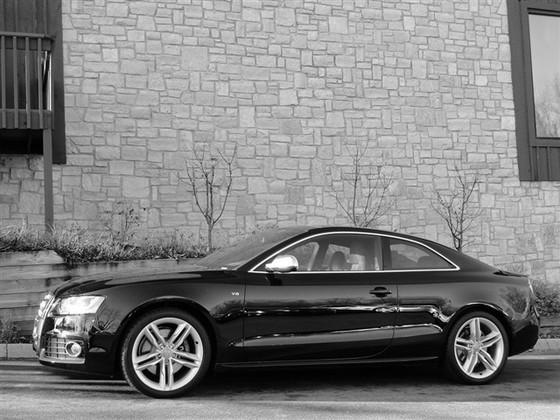car: (16, 207, 556, 420)
